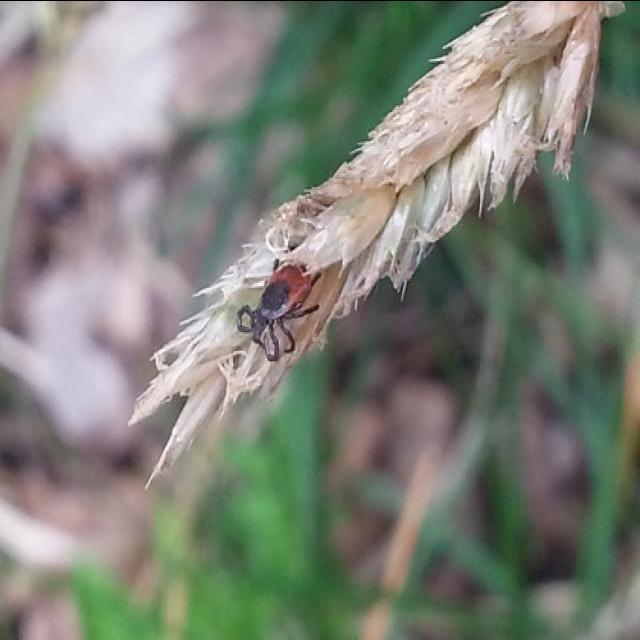Ixodes Ricinus-F: (237, 258, 317, 362)
